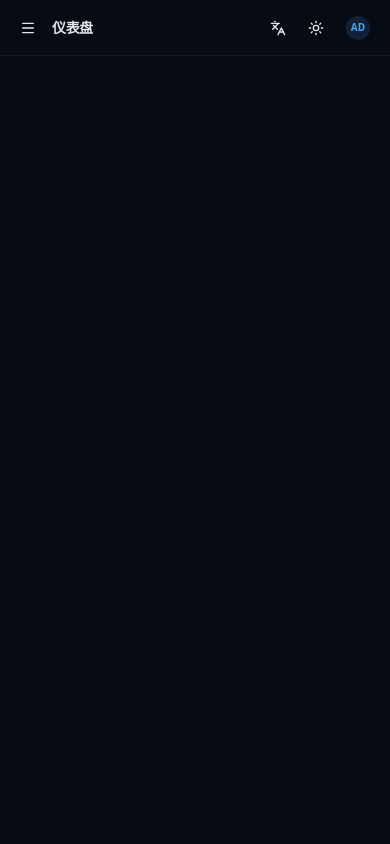
it: Topbar — mobile sheet › opens the sheet when hamburger is clicked
Click the button named "打开菜单" at (28, 28), box left=12, top=12, right=44, bottom=44
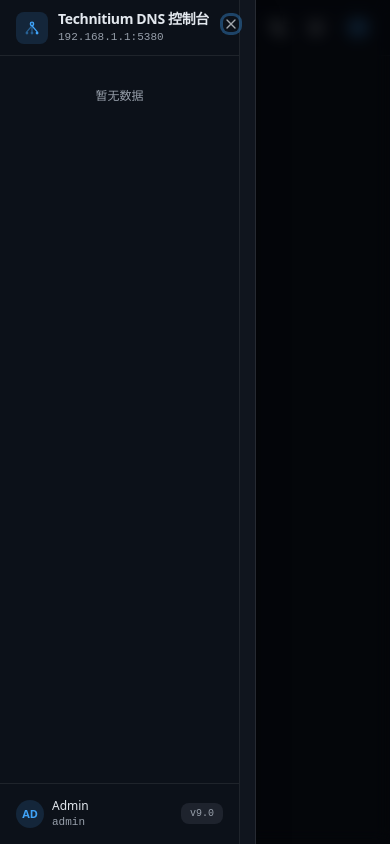
Now the navigation bar named "主导航" is shown, box left=96, top=87, right=144, bottom=104
